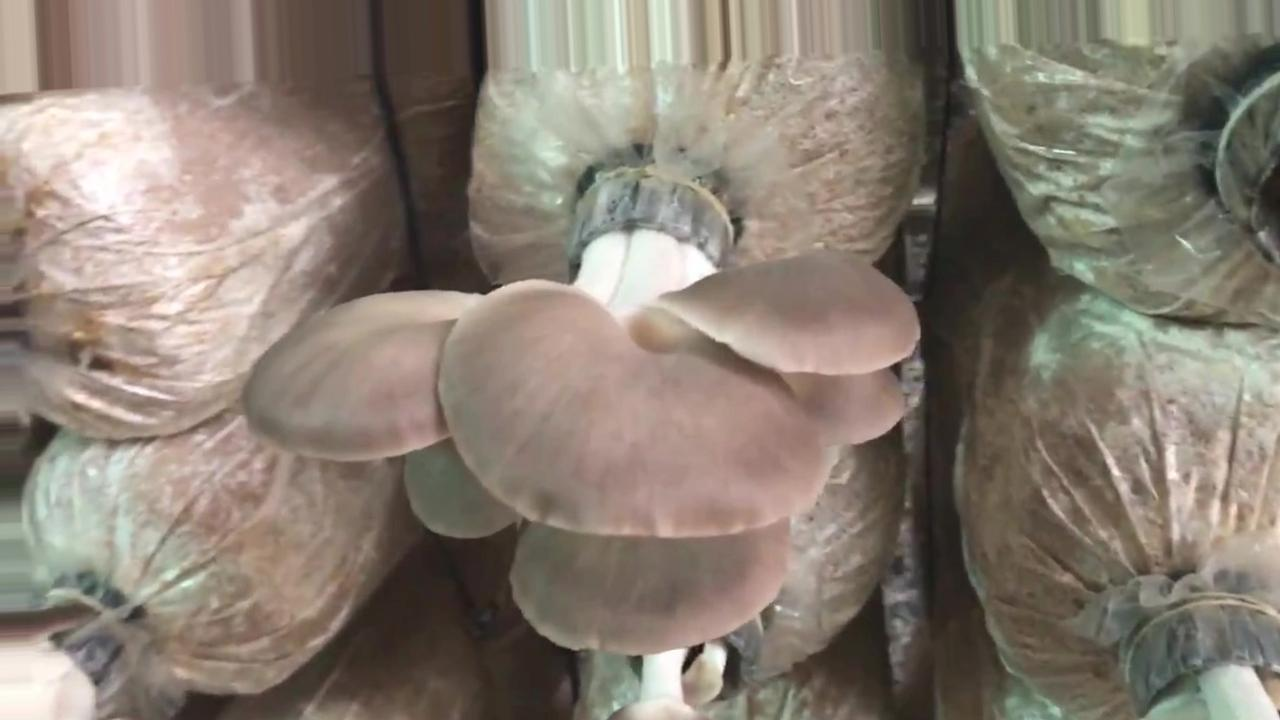nam: (248, 173, 921, 654), (1, 591, 133, 720), (611, 614, 762, 720)
